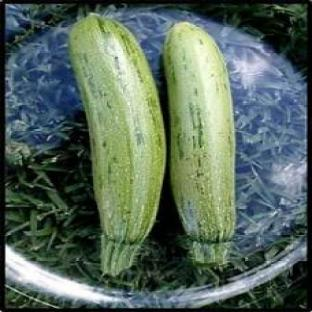Zucchini: (69, 15, 165, 275), (165, 22, 235, 265)
